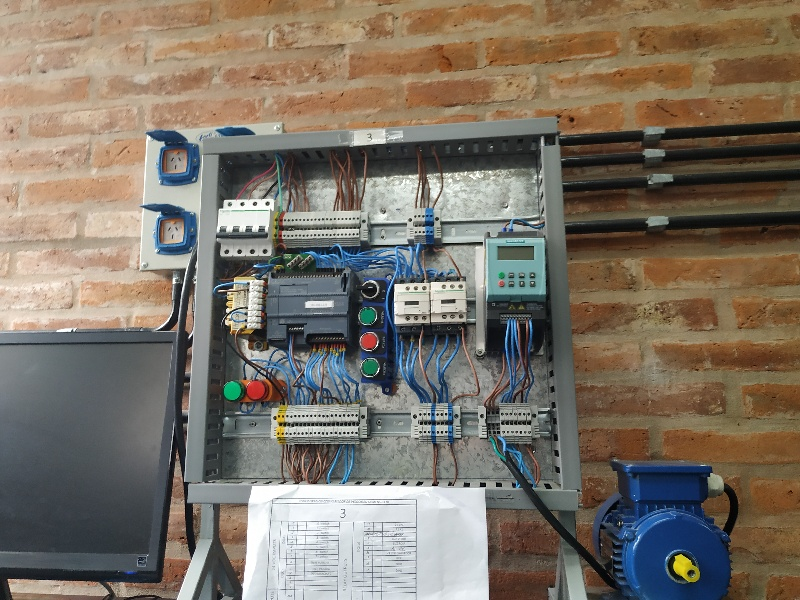Tablero 3: (211, 145, 562, 496)
